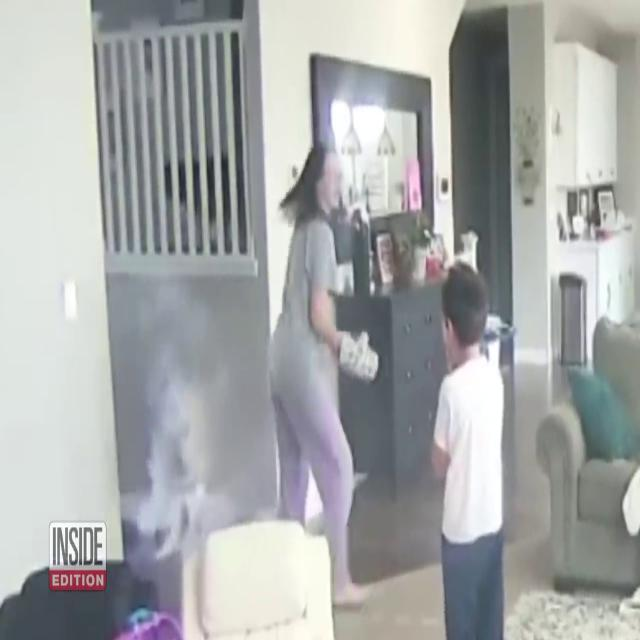Smoke: (127, 277, 234, 625)
